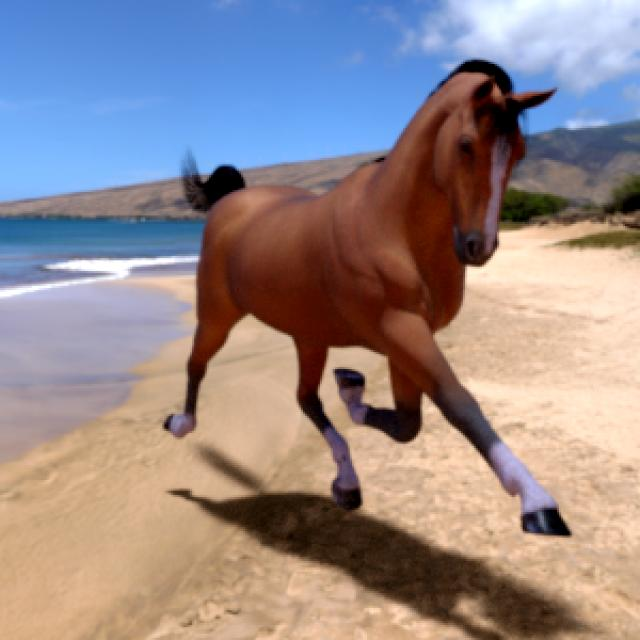horse: (166, 61, 569, 534)
